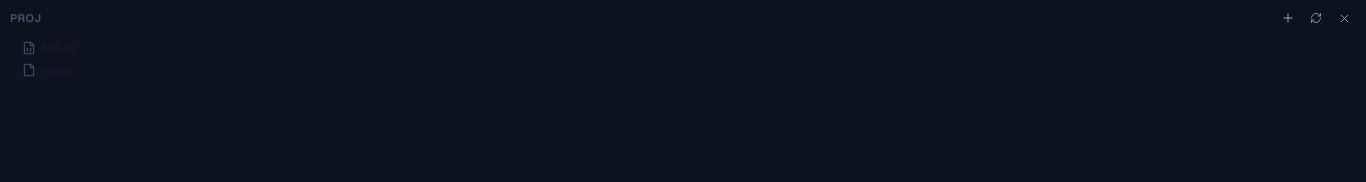
Test: FileExplorer failed create (research-r-01) › a duplicate name keeps the tree, keeps the input, and explains inline
Click the button named "New file, circuit or folder" at {"x": 1288, "y": 18}, box [1276,6,1300,30]
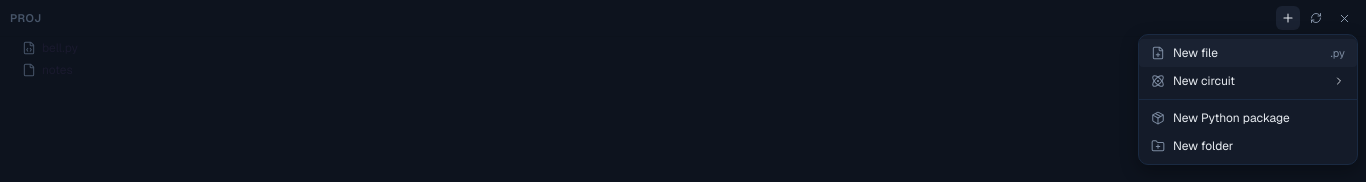
Click the menu item "New file .py" at {"x": 1248, "y": 53}, box [1139,39,1357,67]
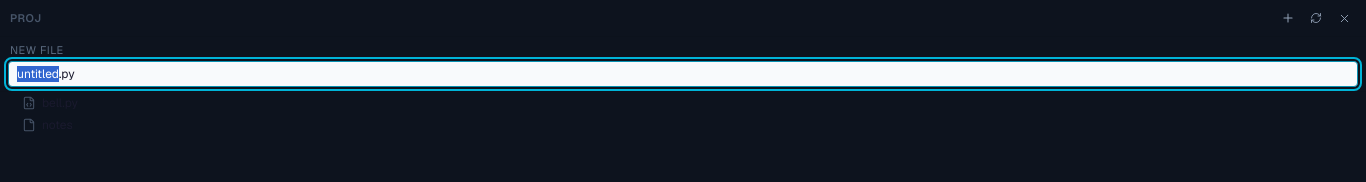
Type "bell" into the field named "name" at {"x": 683, "y": 74}, box [8,61,1358,87]
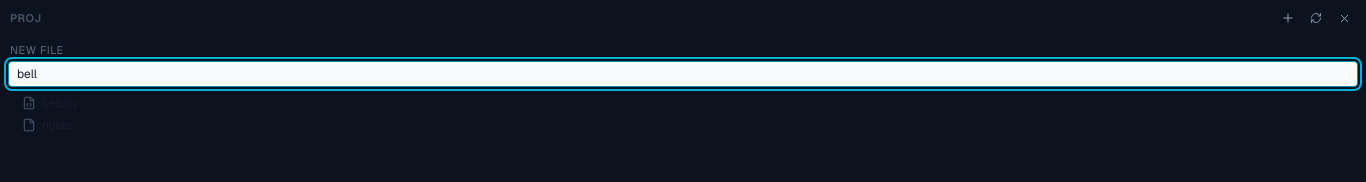
Press Enter in the field named "name", box [8,61,1358,87]
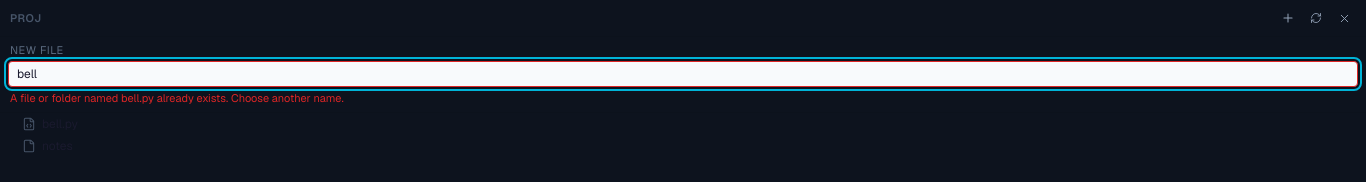
Expected: the list item "bell.py" is shown, [22,116,78,132]
Result: the message shows "bell.py already exists" at [10,91,344,105]
